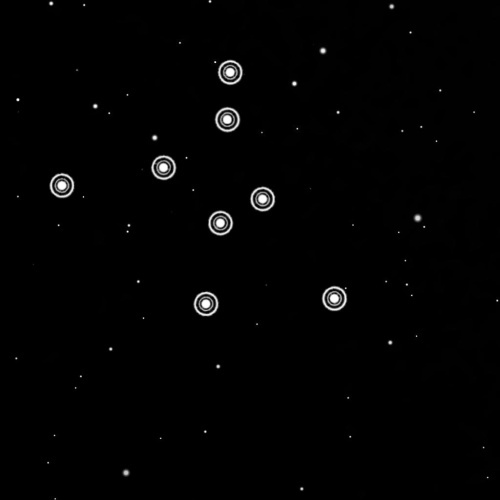hercules: (42, 52, 353, 324)
